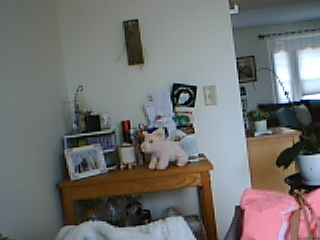piggy: (139, 126, 189, 171)
